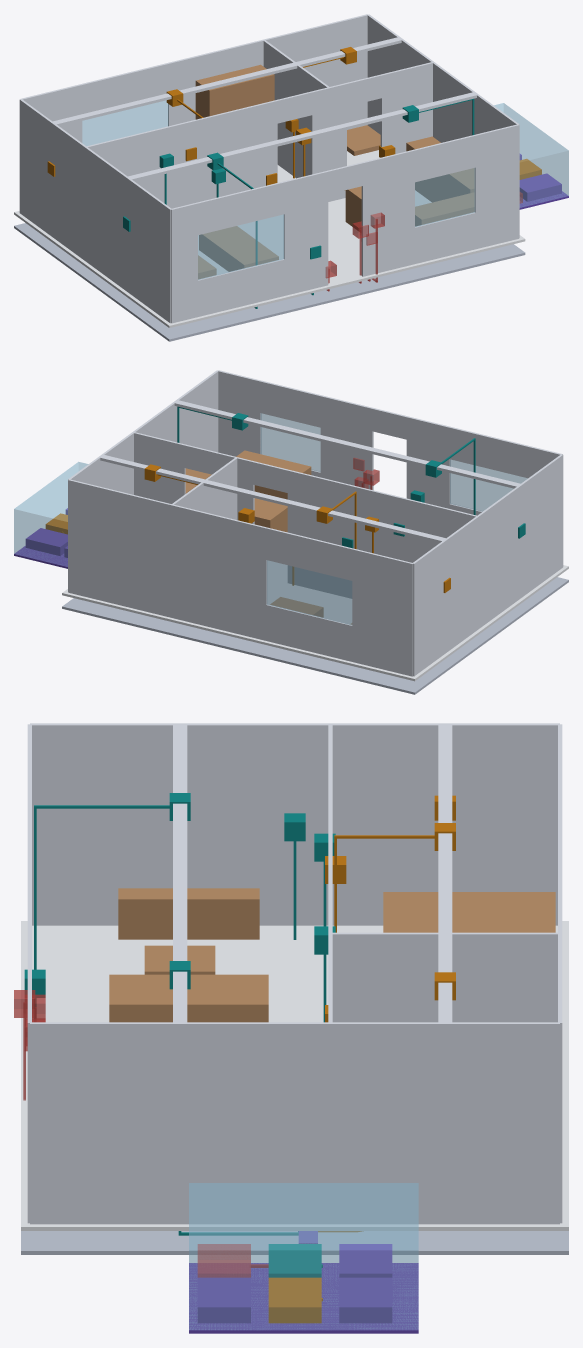
File: mockup.obj
The picture shows the model from 3 angles, top to bottom: view 1: azimuth 30°, elevation 25°; view 2: azimuth 150°, elevation 25°; view 3: azimuth 270°, elevation 25°; orthographic projection. The views are drawn at different scales.
Visible parts, largest first — view 1: Wall_2_part0, Wall_4_part0, Wall_1_part1, Base_board, Raised_floor, Wall_0_part2, Wall_3_part0, Wall_0_part3, Wall_0_part1, Window_0_1, Hub_box_acrylic, Wall_4_part2 (+25 smaller); view 2: Wall_1_part1, Wall_2_part0, Wall_4_part0, Base_board, Wall_1_part0, Wall_3_part0, Raised_floor, Wall_0_part2, Hub_box_acrylic, Window_1_1, Wall_1_sill1, Wall_0_part1 (+21 smaller); view 3: Wall_3_part0, Wall_2_part0, Hub_box_acrylic, Raised_floor, Wall_5_part0, Base_board, Hub_base, Furniture_living_Sofa_0, Furniture_living_TV_unit_1, Furniture_bedroom_Bed_6, Ceiling_beam_0_46_2, Ceiling_beam_0_16_2 (+13 smaller).
Boxes of the visible parts, left/top/right/bottom form: Wall_2_part0: left=19, top=99, right=171, bottom=323; Wall_4_part0: left=86, top=100, right=277, bottom=208; Wall_1_part1: left=168, top=14, right=368, bottom=129; Base_board: left=14, top=223, right=525, bottom=341; Raised_floor: left=14, top=150, right=525, bottom=327; Wall_0_part2: left=361, top=149, right=414, bottom=276; Wall_3_part0: left=367, top=14, right=519, bottom=237; Wall_0_part3: left=475, top=124, right=519, bottom=249; Wall_0_part1: left=284, top=171, right=328, bottom=295; Window_0_1: left=198, top=214, right=284, bottom=279; Hub_box_acrylic: left=494, top=103, right=568, bottom=207; Wall_4_part2: left=380, top=62, right=433, bottom=153; Wall_1_part1: left=68, top=479, right=266, bottom=640; Wall_2_part0: left=413, top=454, right=563, bottom=676; Wall_4_part0: left=287, top=470, right=476, bottom=598; Base_board: left=62, top=577, right=568, bottom=694; Wall_1_part0: left=352, top=548, right=413, bottom=676; Wall_3_part0: left=68, top=370, right=218, bottom=591; Raised_floor: left=62, top=560, right=568, bottom=681; Wall_0_part2: left=320, top=395, right=373, bottom=490; Hub_box_acrylic: left=14, top=462, right=88, bottom=566; Window_1_1: left=266, top=560, right=352, bottom=625; Wall_1_sill1: left=266, top=604, right=352, bottom=661; Wall_0_part1: left=406, top=416, right=450, bottom=508; Wall_3_part0: left=30, top=1022, right=559, bottom=1224; Wall_2_part0: left=30, top=723, right=559, bottom=925; Hub_box_acrylic: left=189, top=1183, right=418, bottom=1330; Raised_floor: left=21, top=921, right=568, bottom=1230; Wall_5_part0: left=330, top=932, right=559, bottom=1022; Base_board: left=21, top=1231, right=568, bottom=1254; Hub_base: left=189, top=1263, right=418, bottom=1333; Furniture_living_Sofa_0: left=109, top=974, right=268, bottom=1022; Furniture_living_TV_unit_1: left=118, top=888, right=259, bottom=939; Furniture_bedroom_Bed_6: left=383, top=892, right=555, bottom=932; Ceiling_beam_0_46_2: left=438, top=724, right=452, bottom=932; Ceiling_beam_0_16_2: left=173, top=724, right=187, bottom=910.
Bounding box in the file's own units: 103 × 28.7 × 62.8.
